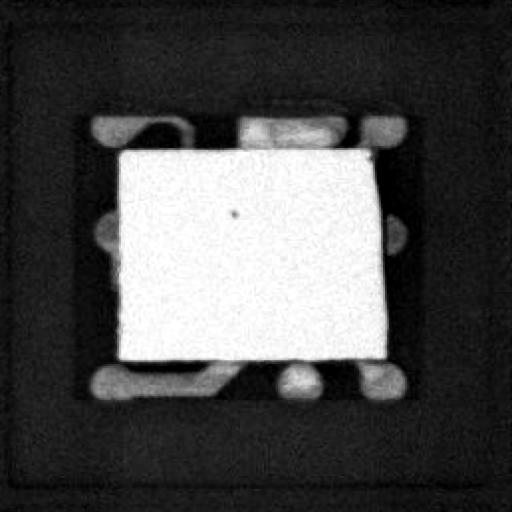DIE_INK: (363, 146, 389, 360), (224, 207, 240, 222)
